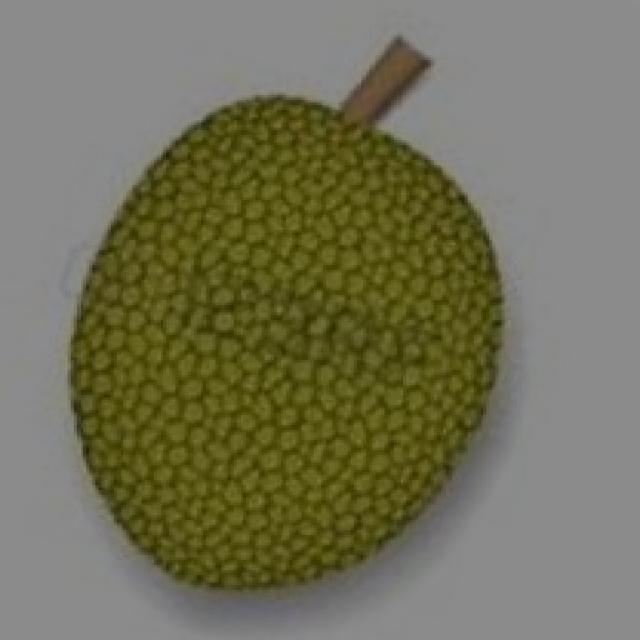Fruit: (34, 70, 468, 462), (135, 58, 548, 318)
